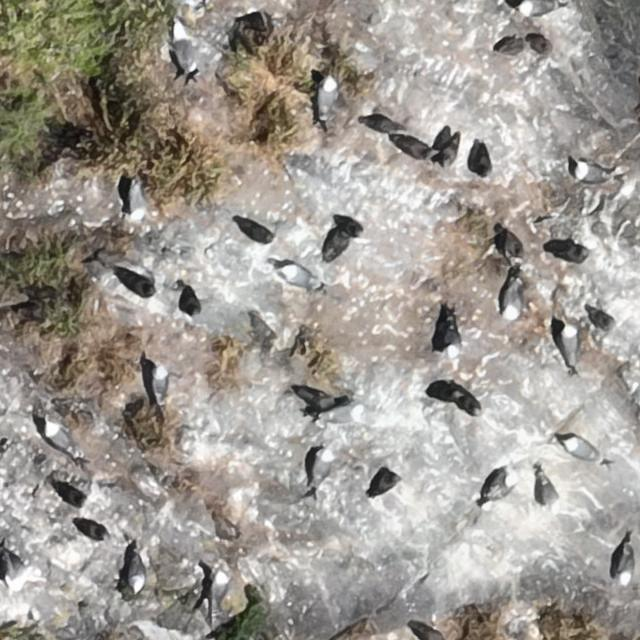umineko: (478, 468, 520, 510), (302, 445, 334, 500), (172, 18, 197, 77), (535, 468, 563, 515), (618, 542, 636, 588), (444, 312, 460, 361), (566, 439, 600, 461), (284, 267, 319, 288), (318, 404, 361, 421), (46, 424, 71, 453), (316, 79, 336, 115), (563, 326, 580, 364), (554, 245, 592, 262), (128, 558, 145, 593), (504, 285, 521, 319), (576, 164, 608, 182), (129, 187, 145, 220), (522, 0, 557, 15), (153, 366, 168, 399), (213, 571, 229, 601)
